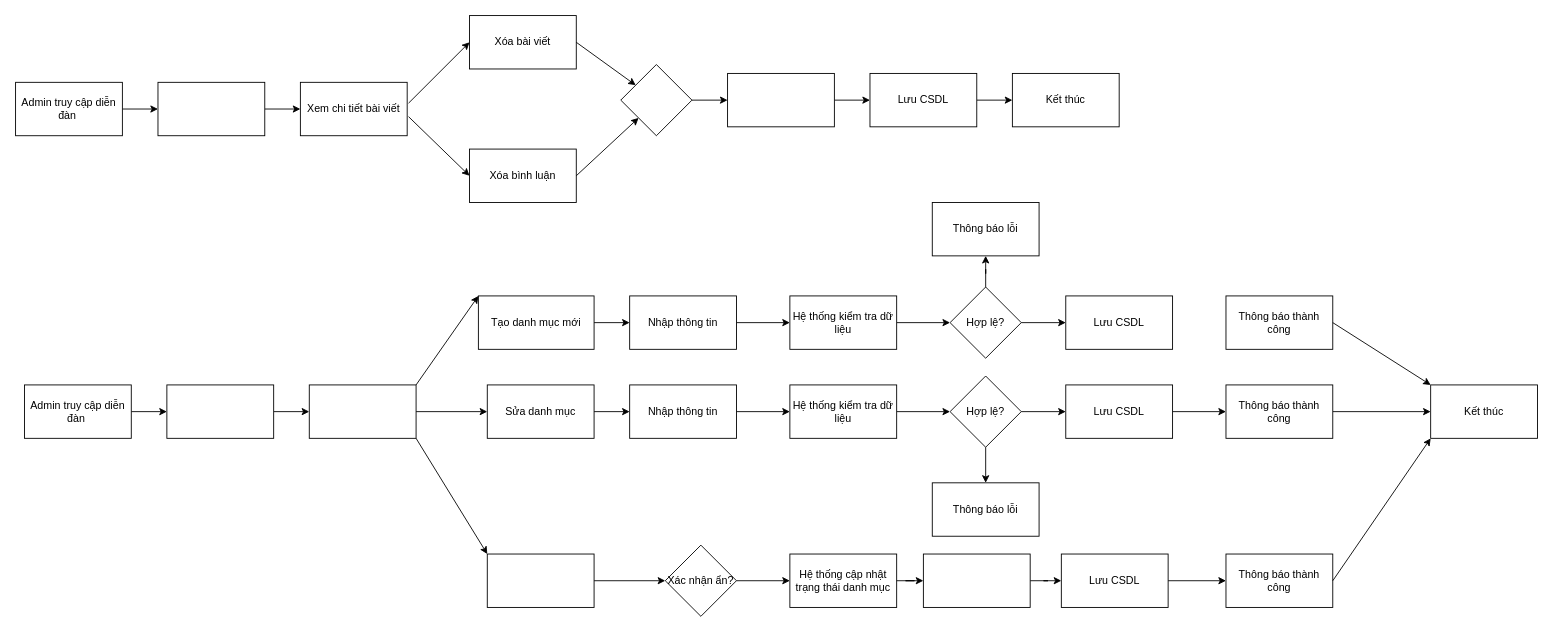
The diagram is 1553 pixels wide and 632 high, and some of its shapes have lost their labels. Here are the shapes that lost their labels. From the top down, the centre of each, then its label:
At (x=211, y=108): "Bài viết".
At (x=656, y=100): "Xác nhận xóa?".
At (x=780, y=100): "Hệ thống cập nhật trạng thái hiển thị".
At (x=220, y=411): "Danh mục diễn đàn".
At (x=362, y=411): "Xem danh sách danh mục".
At (x=540, y=580): "Ẩn".
At (x=976, y=580): "Cập nhật trạng thái bài viết thuộc danh mục".
